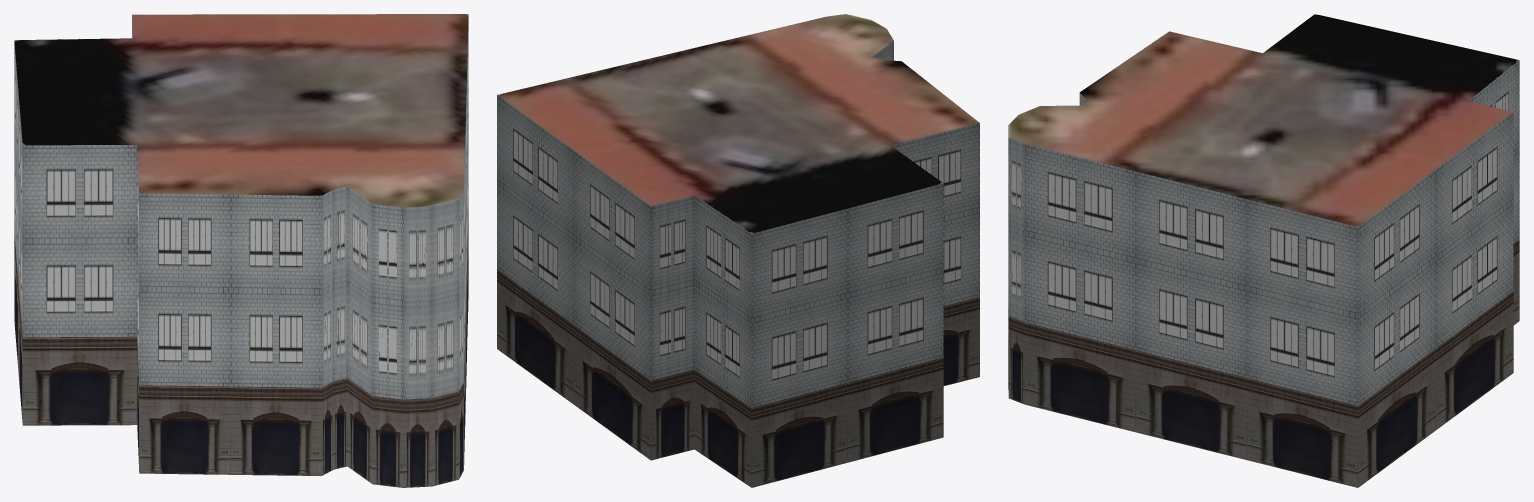
File: T_1SWK04P2C0.dae
3 renders of one model, left to right at view 1: azimuth 30°, elevation 25°; view 2: azimuth 150°, elevation 25°; view 3: azimuth 270°, elevation 25°, orthographic. The views are drawn at different scales.
Parts seen in each view (by area): view 1: SketchUp (×23); view 2: SketchUp (×11); view 3: SketchUp (×9).
Boxes of the visible parts, x1=… form: SketchUp (×23): x1=14, y1=14, x2=468, y2=487; SketchUp (×11): x1=497, y1=14, x2=979, y2=487; SketchUp (×9): x1=1008, y1=14, x2=1519, y2=487.
Size of the model in its own units: 18.34 by 18.59 by 10.47.
Materials: 3 (3 with a texture image).
